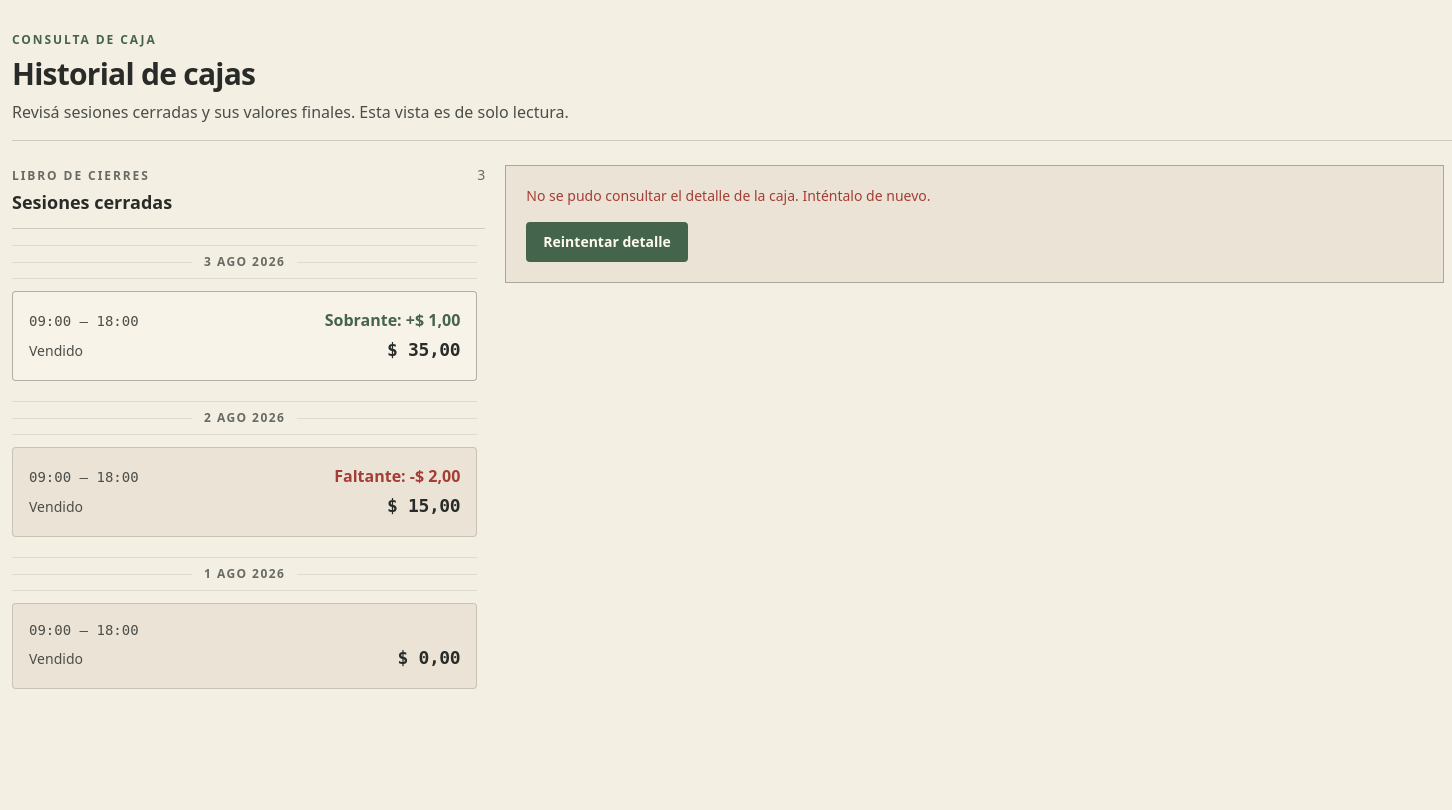
it: ClosedSessionHistory › shows read-only detail and retries a failed detail query
Expected: the message reads "No se pudo consultar el detalle de la caja. Inténtalo de nuevo.", [526, 186, 930, 205]
Click the button "Reintentar detalle".
click(607, 242)  # box [526, 222, 688, 262]
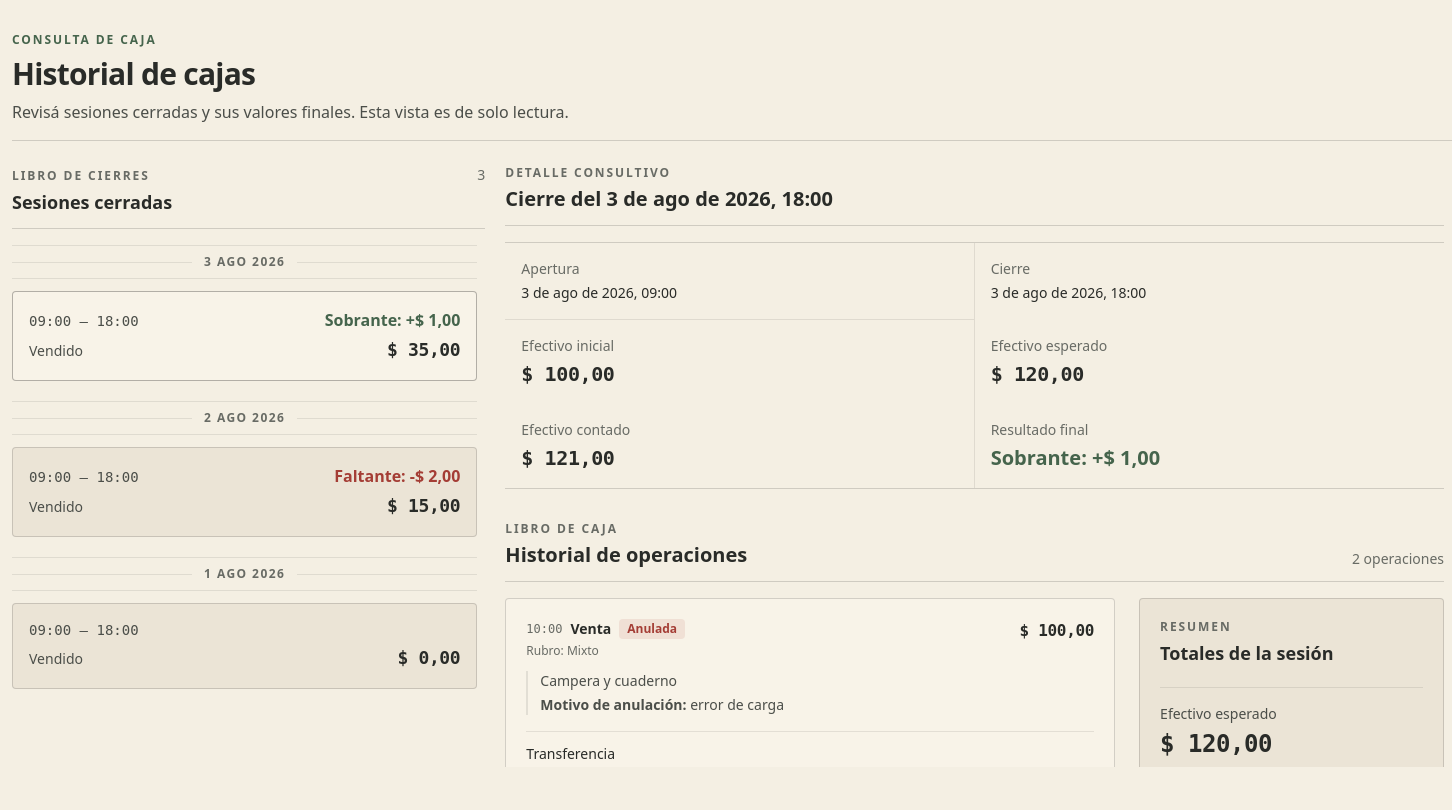
Expected: the heading "Cierre del 3 de ago de 2026, 18:00" is shown, [505, 185, 833, 212]
Expected: the text "Campera y cuaderno" is shown, [540, 671, 677, 690]
Expected: the text "Anulada" is shown, [619, 619, 685, 639]
